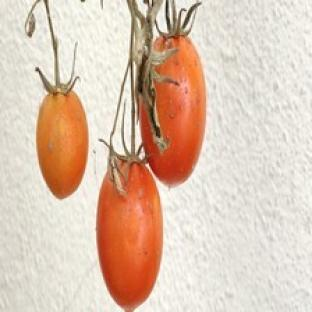Tomato: (141, 37, 206, 186), (97, 163, 162, 311), (37, 91, 87, 199)
